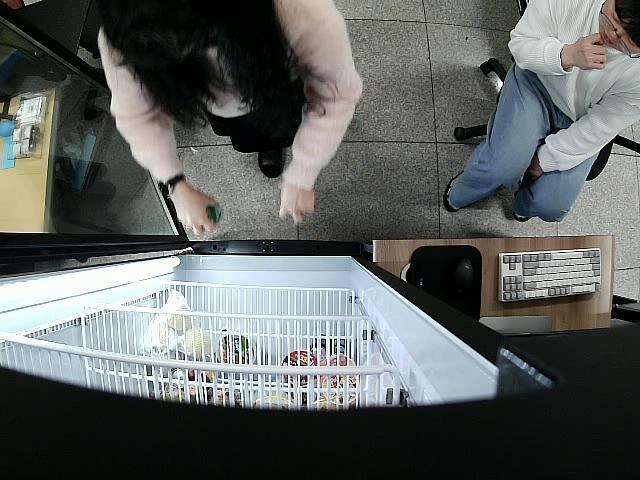12_chilsungCider: (205, 204, 222, 224)
